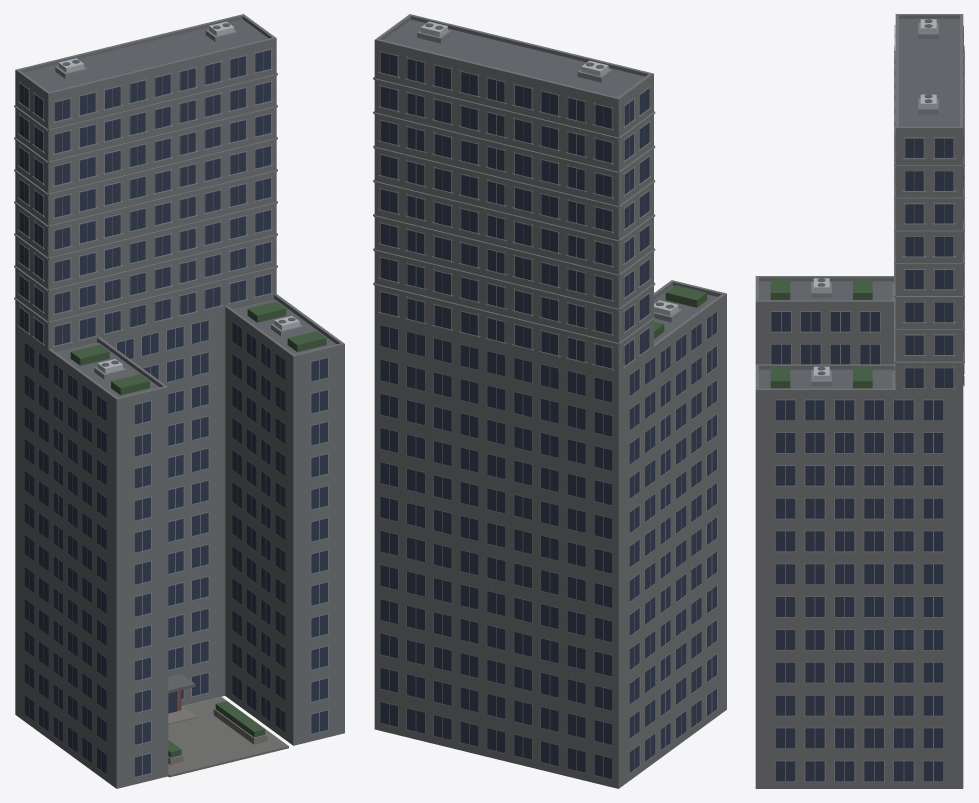
Rendered from civic_u_office_lvl1.glb.
3 views of the same model, side by side, from view 1: azimuth 30°, elevation 25°; view 2: azimuth 150°, elevation 25°; view 3: azimuth 270°, elevation 25° (orthographic). The views are drawn at different scales.
Visible parts, largest first — view 1: civic_u_office; view 2: civic_u_office; view 3: civic_u_office.
Boxes of the visible parts, bbox=[...] form: civic_u_office: bbox=[14, 14, 344, 788]; civic_u_office: bbox=[373, 14, 726, 788]; civic_u_office: bbox=[755, 14, 964, 788].
Bounding box in the file's own units: 1 × 2.72 × 0.7673.
